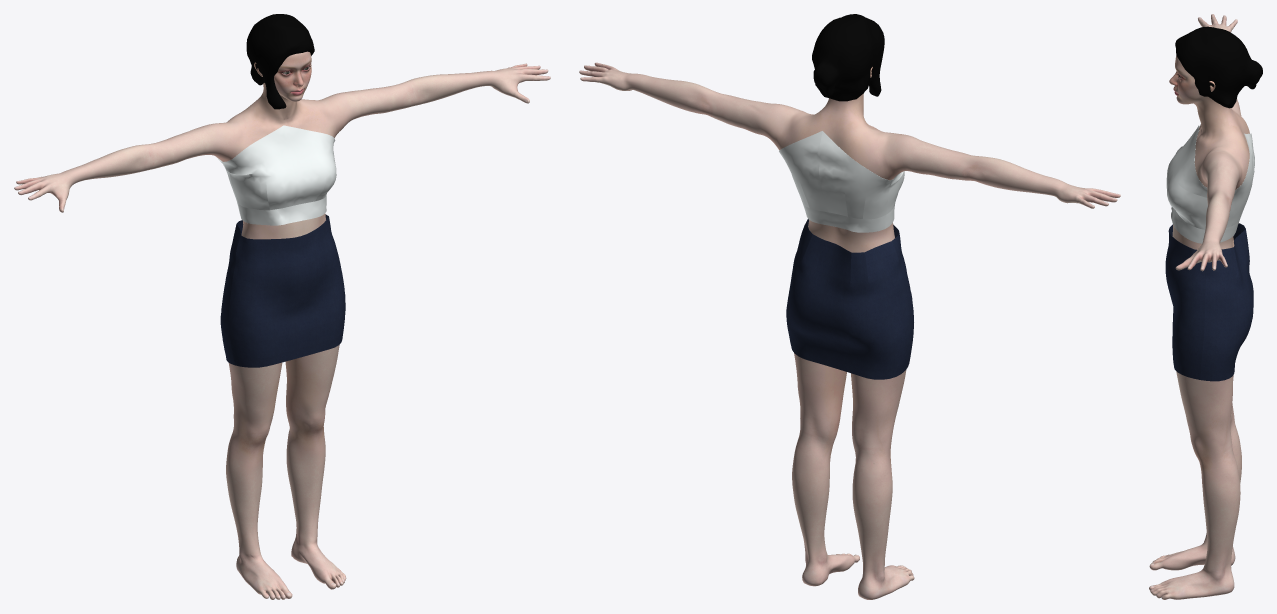
File: random.obj
3 views of the same model, side by side, from view 1: azimuth 30°, elevation 25°; view 2: azimuth 150°, elevation 25°; view 3: azimuth 270°, elevation 25° (orthographic). The views are drawn at different scales.
Bounding box in the file's own units: 1742 × 1762 × 331.
